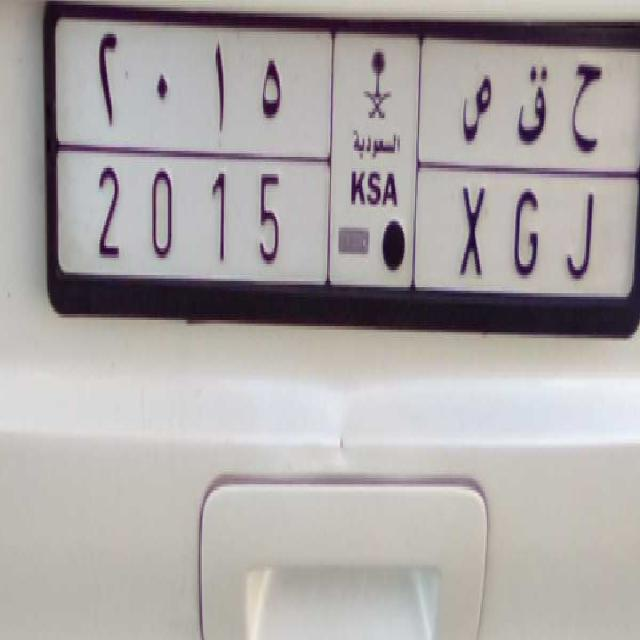license_plate: (76, 148, 623, 298)
